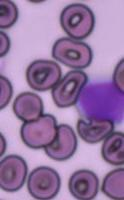L: (75, 76, 124, 123)
